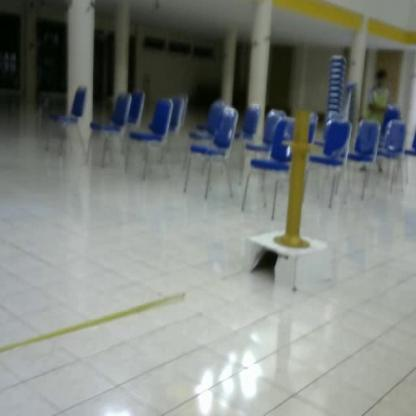pole: (272, 107, 318, 256)
